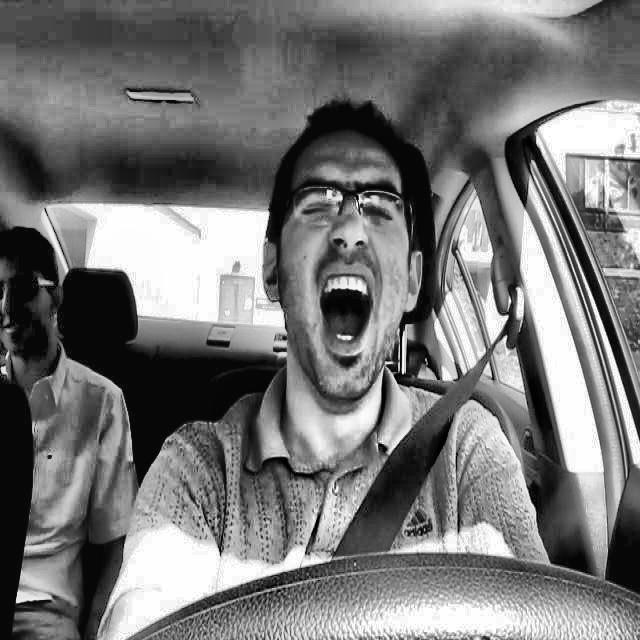closed_eyes: (288, 191, 343, 229), (357, 191, 406, 232)
open_mouth: (306, 253, 390, 371)
